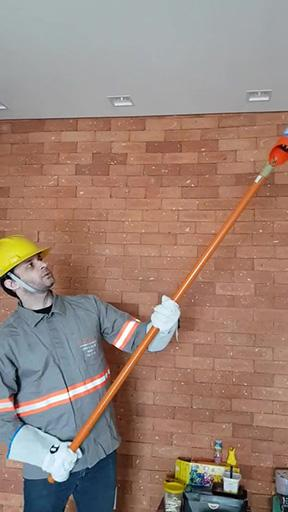Vara_Manobra: (46, 167, 278, 485)
